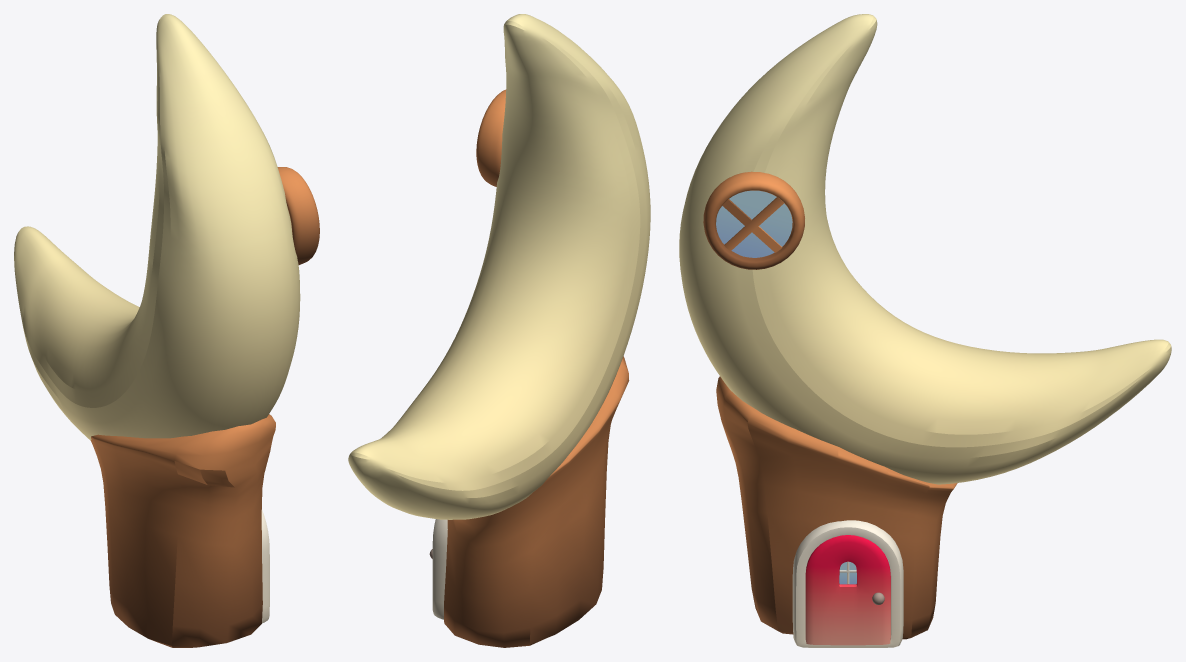
The model's file is Huisjes moon.fbx.
3 renders of one model, left to right at view 1: azimuth 30°, elevation 25°; view 2: azimuth 150°, elevation 25°; view 3: azimuth 270°, elevation 25°, orthographic.
Parts seen in each view (by area): view 1: Cylinder.021, Cube.010, Cylinder.034, Cylinder.019; view 2: Cylinder.021, Cube.010, Cylinder.034, Cylinder.019; view 3: Cylinder.021, Cube.010, door.002, Cylinder.019, Cylinder.034, Plane.009, Cube.052.
Part boxes in pixels (box(x1,y1,x2,y2)): Cylinder.021: box(14, 14, 300, 440); Cube.010: box(90, 414, 275, 647); Cylinder.034: box(277, 167, 319, 264); Cylinder.019: box(261, 510, 269, 623); Cylinder.021: box(348, 14, 650, 519); Cube.010: box(444, 356, 629, 647); Cylinder.034: box(476, 89, 506, 186); Cylinder.019: box(432, 519, 447, 619); Cylinder.021: box(679, 14, 1171, 484); Cube.010: box(716, 376, 957, 639); door.002: box(805, 535, 890, 645); Cylinder.019: box(792, 520, 903, 647); Cylinder.034: box(703, 171, 804, 269); Plane.009: box(716, 190, 792, 257); Cube.052: box(722, 197, 783, 252).
Bounding box in the file's own units: 161 × 627 × 463.
